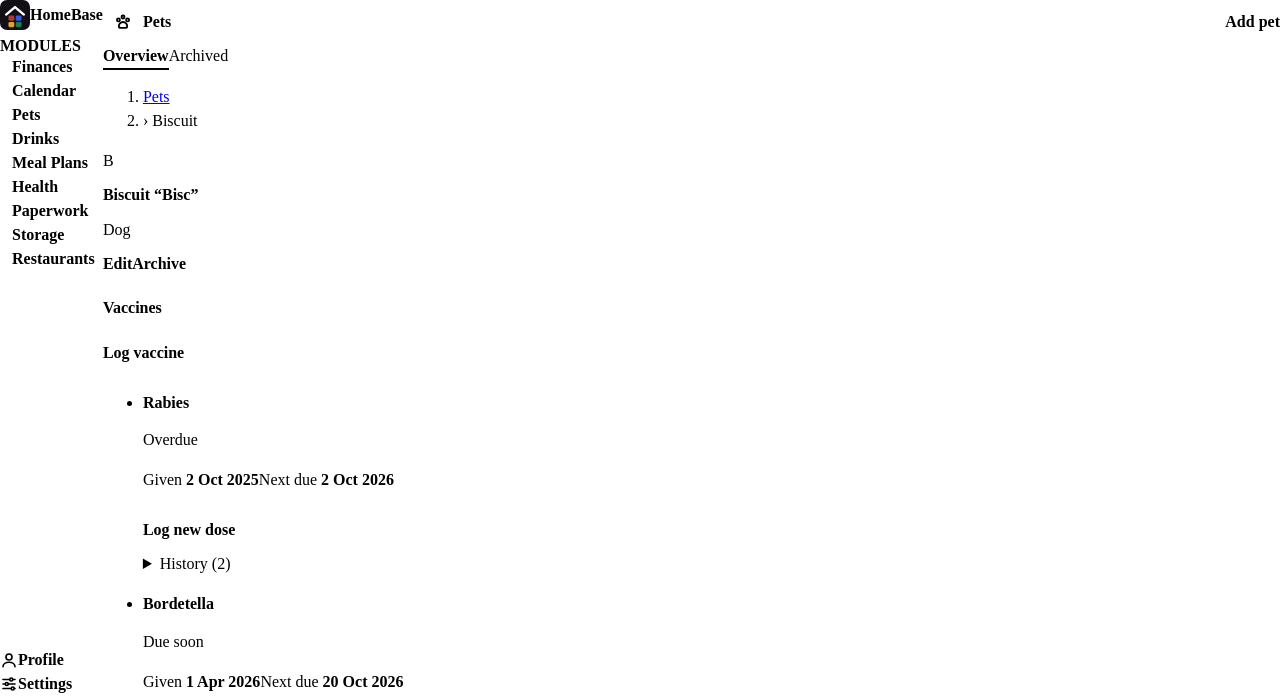
Test case: a pet's profile (REQ-186) › shows the name with its nickname and species, and Edit and Archive for members
This screenshot has width=1280, height=697.
Expected: the heading "Biscuit “Bisc”" is shown, [103, 186, 198, 203]
Expected: the button "Edit" is shown, [103, 242, 132, 286]
Click the button "Archive" at point(159, 264), box [132, 242, 186, 286]
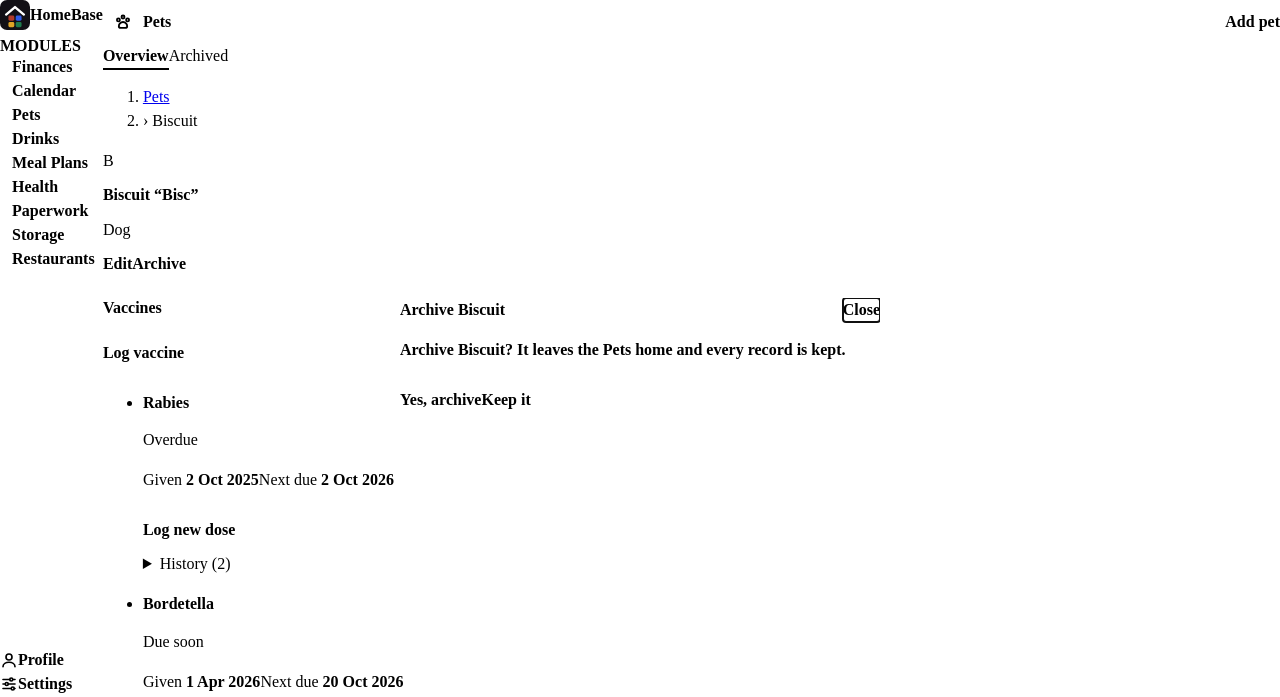
Expected: the dialog "Archive Biscuit" is shown, [400, 298, 880, 422]
Expected: the button "Yes, archive" is shown, [400, 378, 482, 422]
